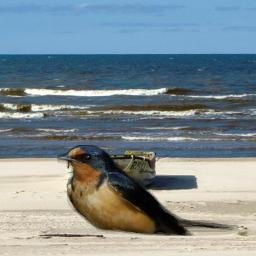Swallow: (57, 145, 240, 236)
